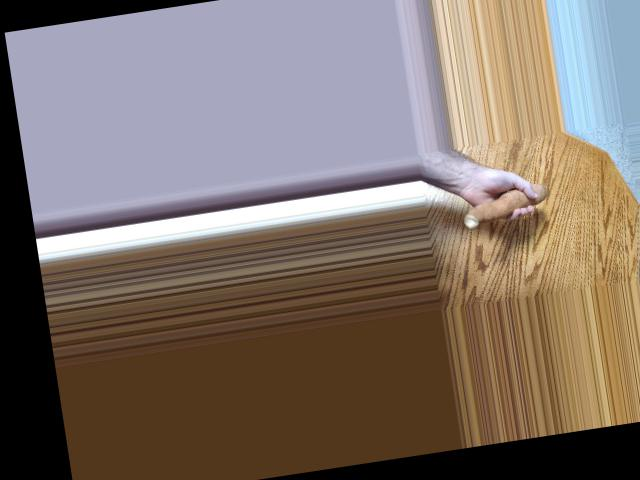sweet_potato: (452, 178, 543, 226)
